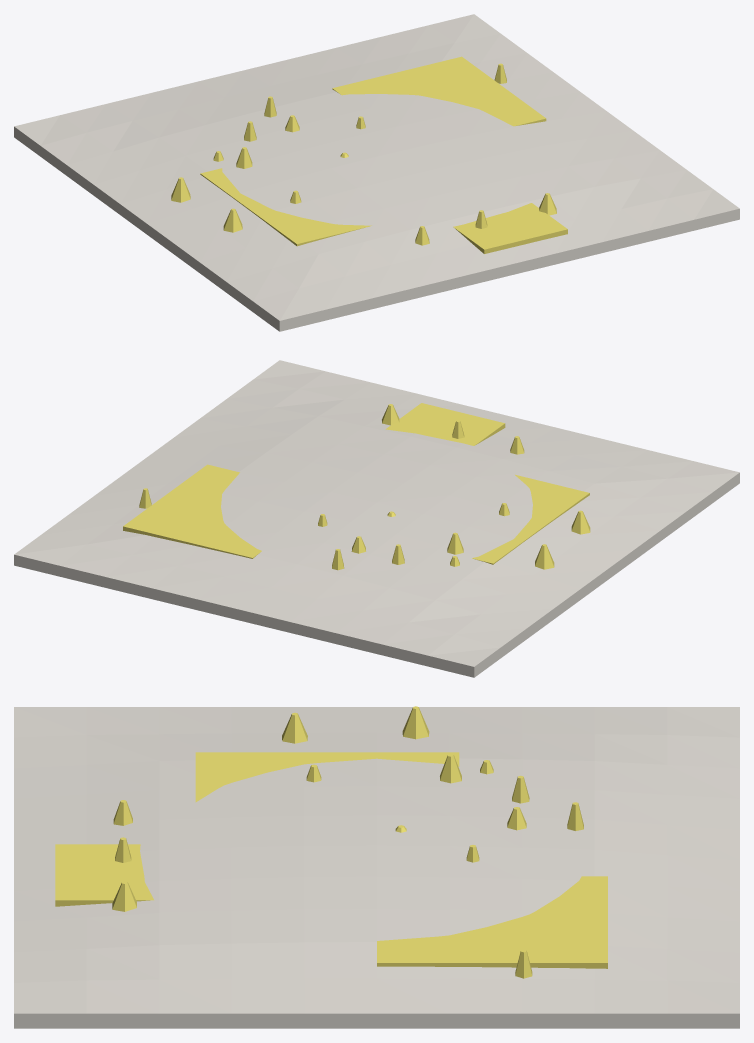
Rendered from volcano-and-lava-fields-volcano-and-lava-fields-sulphu-603c4b4d__37461.glb.
3 renders of one model, top to bottom at view 1: azimuth 30°, elevation 25°; view 2: azimuth 150°, elevation 25°; view 3: azimuth 270°, elevation 25°, orthographic. The views are drawn at different scales.
Parts seen in each view (by area): view 1: volcano-and-lava-fields-sulphur-deposit-patch; view 2: volcano-and-lava-fields-sulphur-deposit-patch; view 3: volcano-and-lava-fields-sulphur-deposit-patch.
Part boxes in pixels (x1,y1,x2,y2): volcano-and-lava-fields-sulphur-deposit-patch: (14,14,739,331); volcano-and-lava-fields-sulphur-deposit-patch: (14,360,739,677); volcano-and-lava-fields-sulphur-deposit-patch: (14,706,739,1028).
Bounding box in the file's own units: 2.2 × 0.1658 × 2.2.
